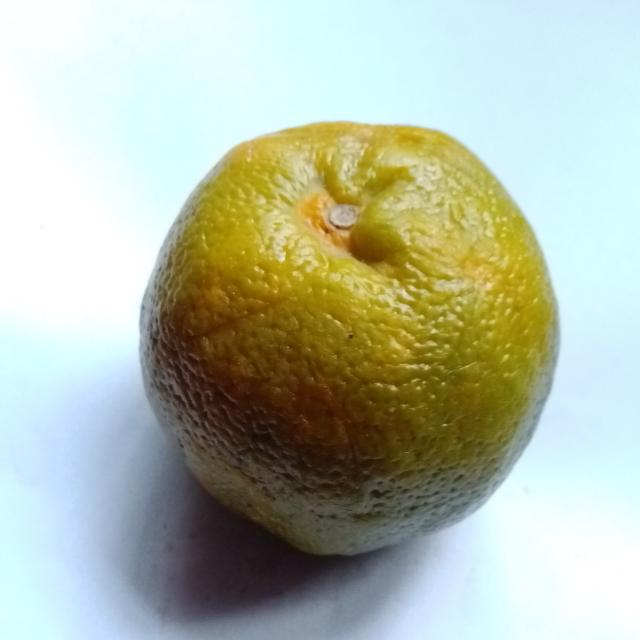orange: (141, 123, 557, 554)
